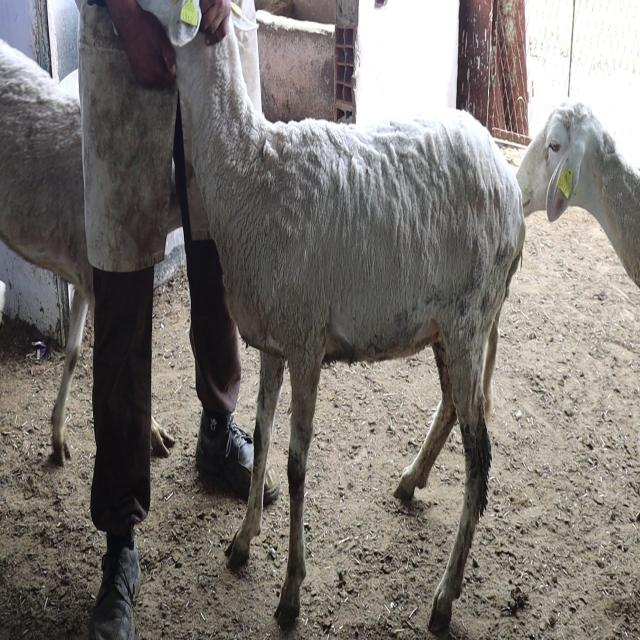Score_5: (137, 0, 525, 632)
